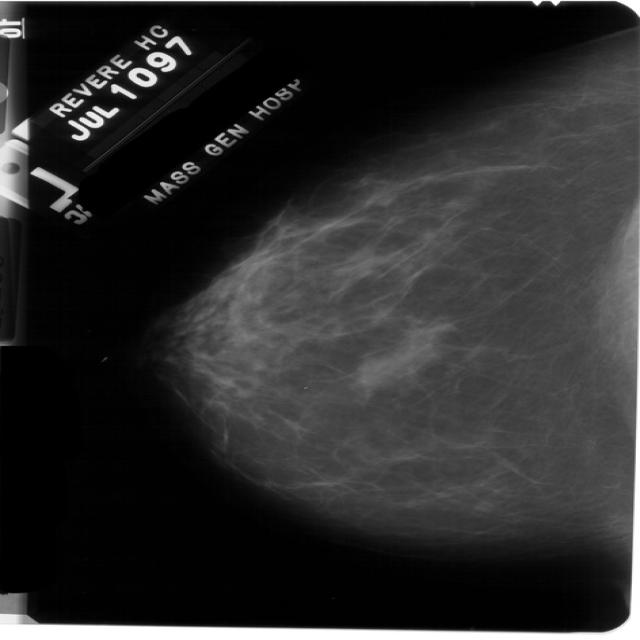tumour: (356, 325, 436, 388)
